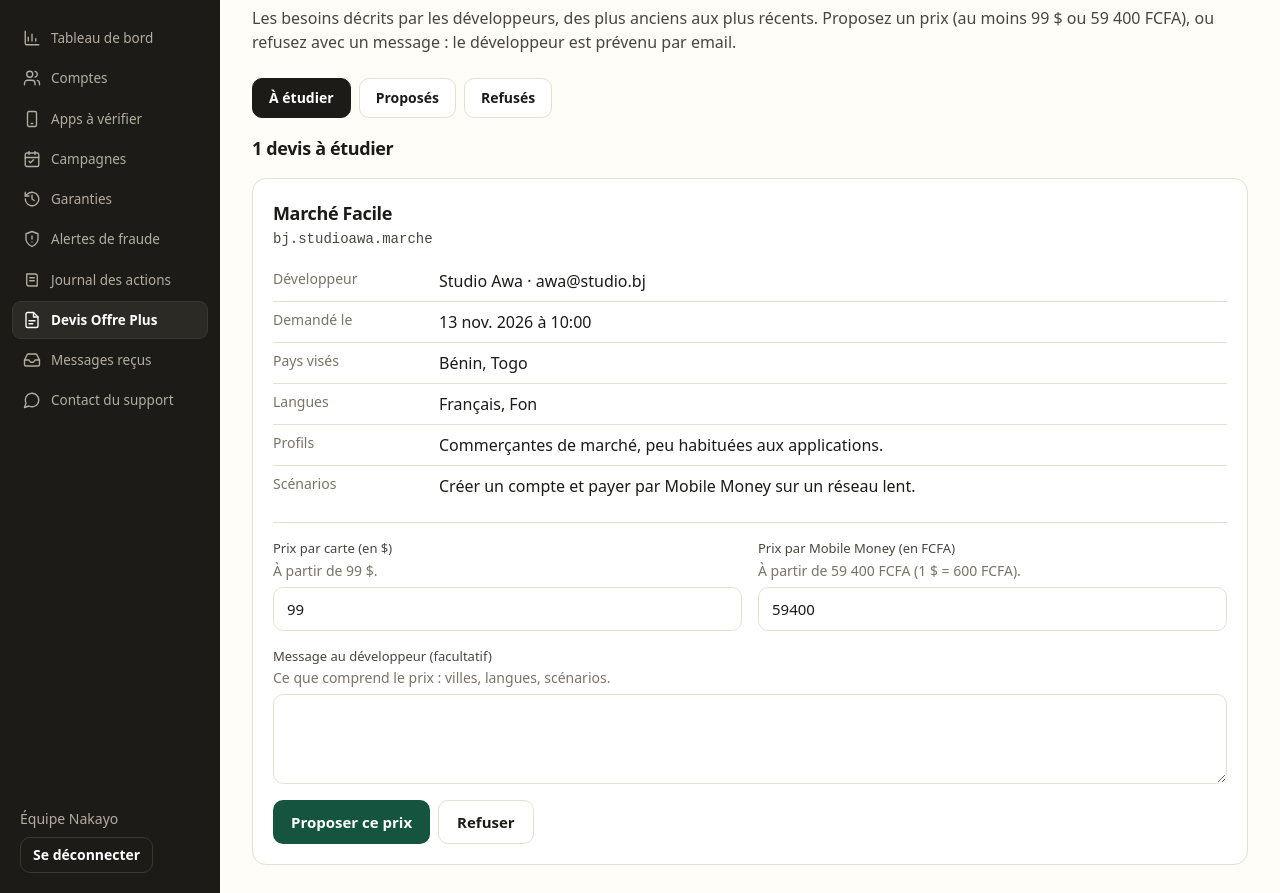
Test case: Répondre aux devis (US-37, admin) › un refus demande un message
(page scrolled)
Click the button with aria-label "Refuser : Marché Facile" at (486, 822), box [438,800,534,844]
(page scrolled)
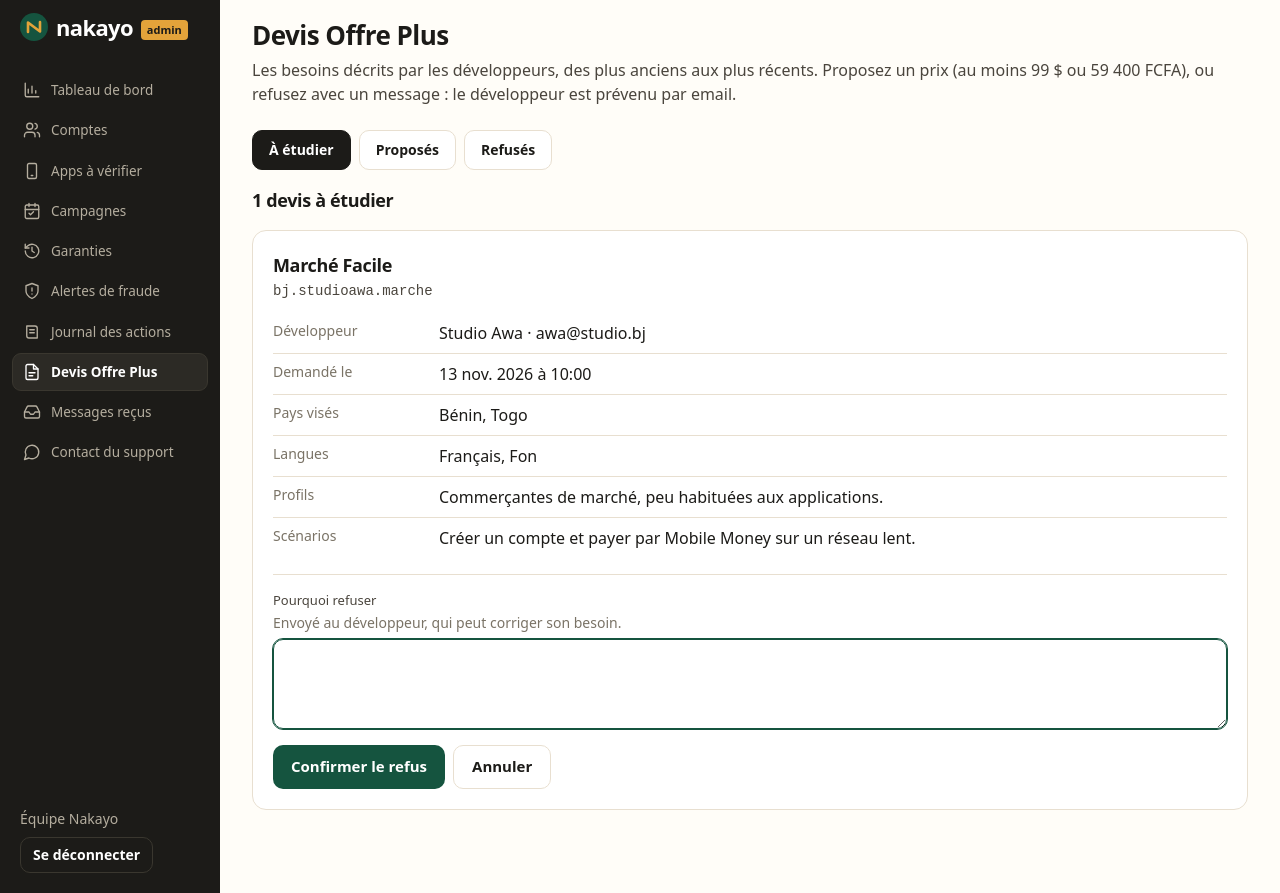
Click the button with aria-label "Confirmer le refus : Marché Facile" at (359, 767), box [273,745,445,789]
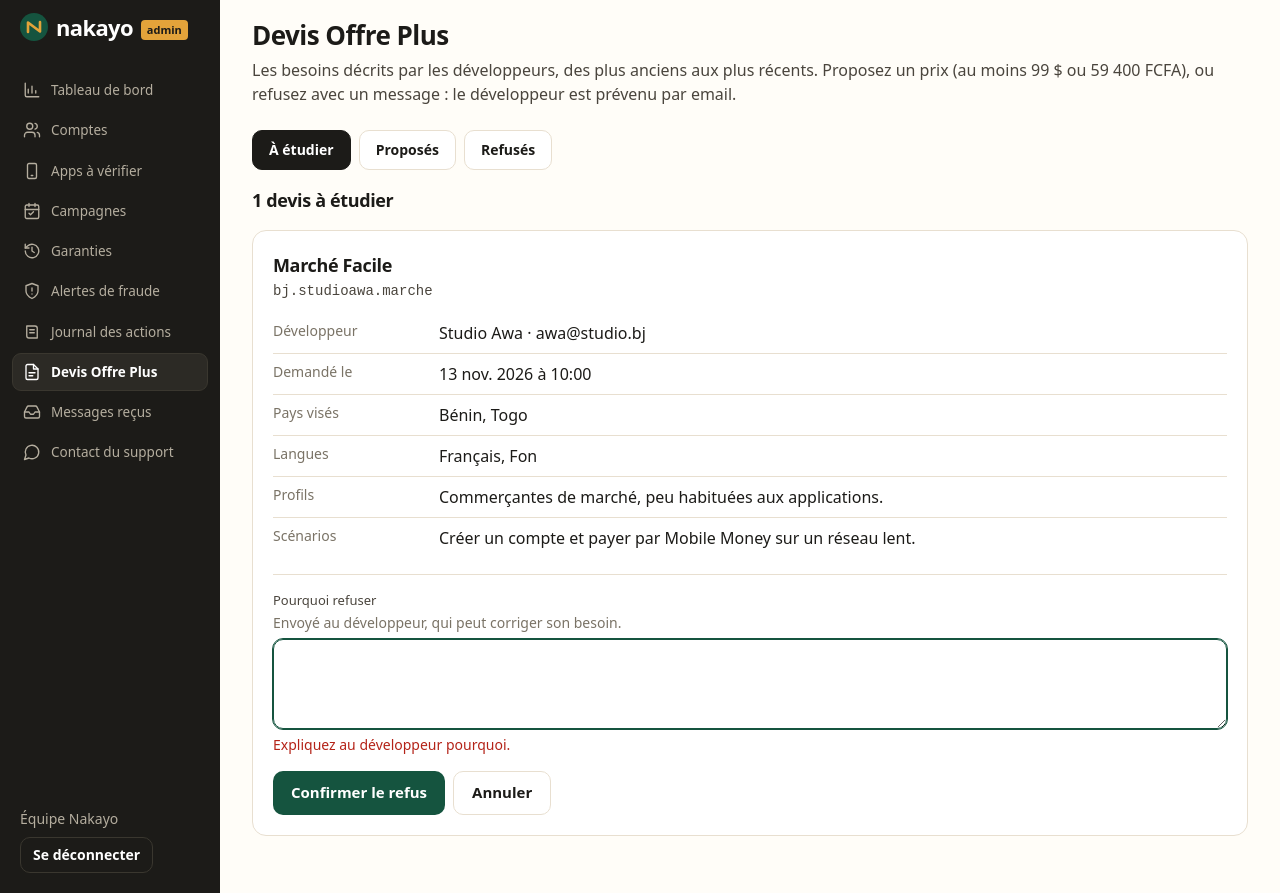
Expected: the text "Expliquez au développeur pourquoi." is shown, [273,735,510,754]
Type "Pas encore de testeurs au Togo." into the text box labelled "Pourquoi refuser" at (750, 684), box [273,639,1227,729]
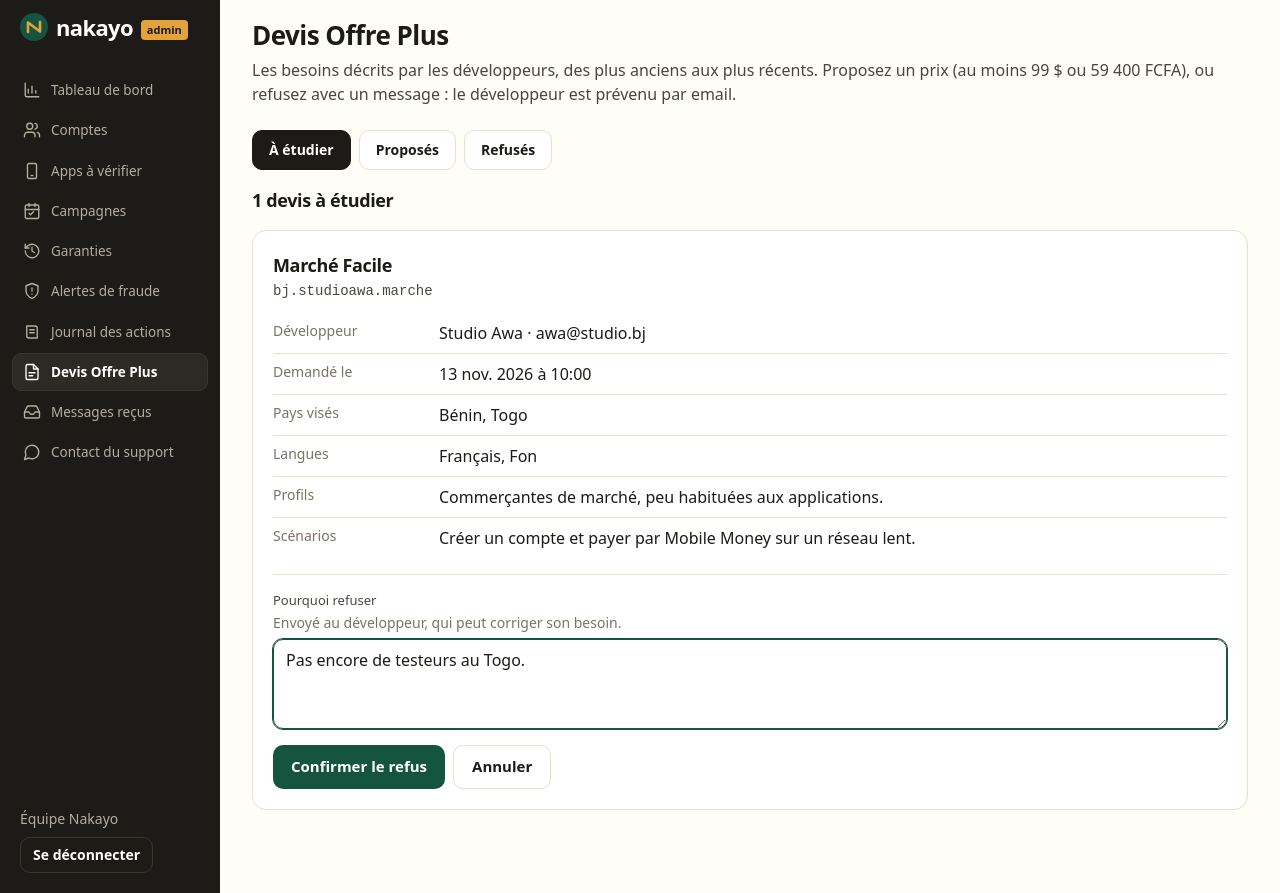
Click the button with aria-label "Confirmer le refus : Marché Facile" at (359, 767), box [273,745,445,789]
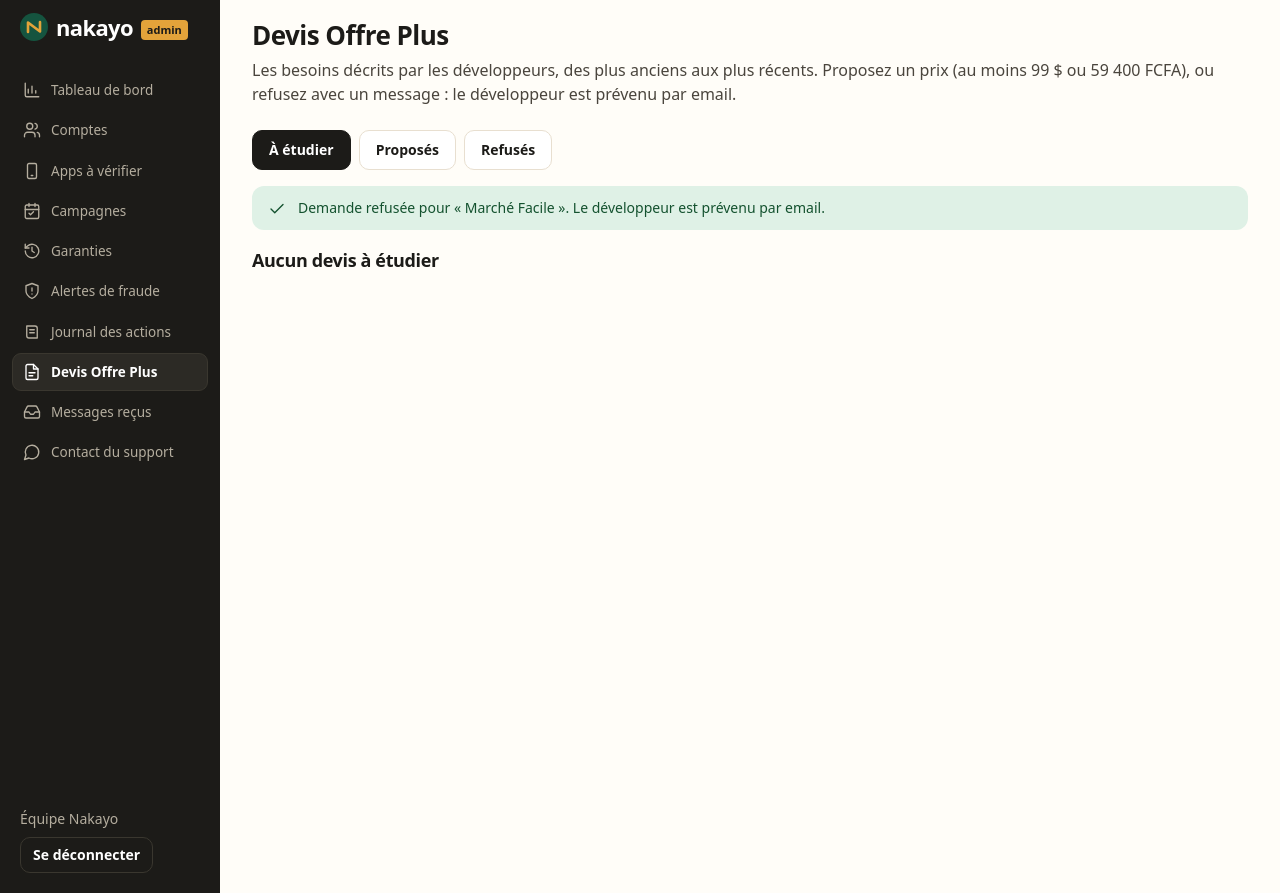
Expected: the text "Demande refusée pour « Marché Facile »" is shown, [298,198,825,217]
